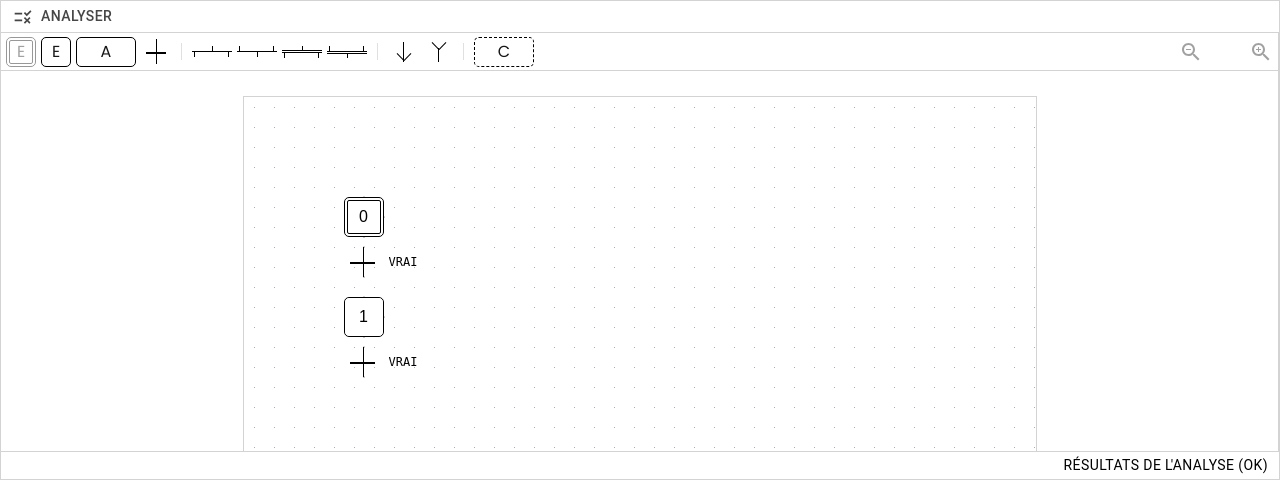
EmbeddedApp › controls › offers the analysis status, which opens the panel
This screenshot has width=1280, height=497.
Click the button "Résultats de l'analyse (OK)". click: [1166, 466]
box: top-left (1061, 452), bottom-right (1271, 479)
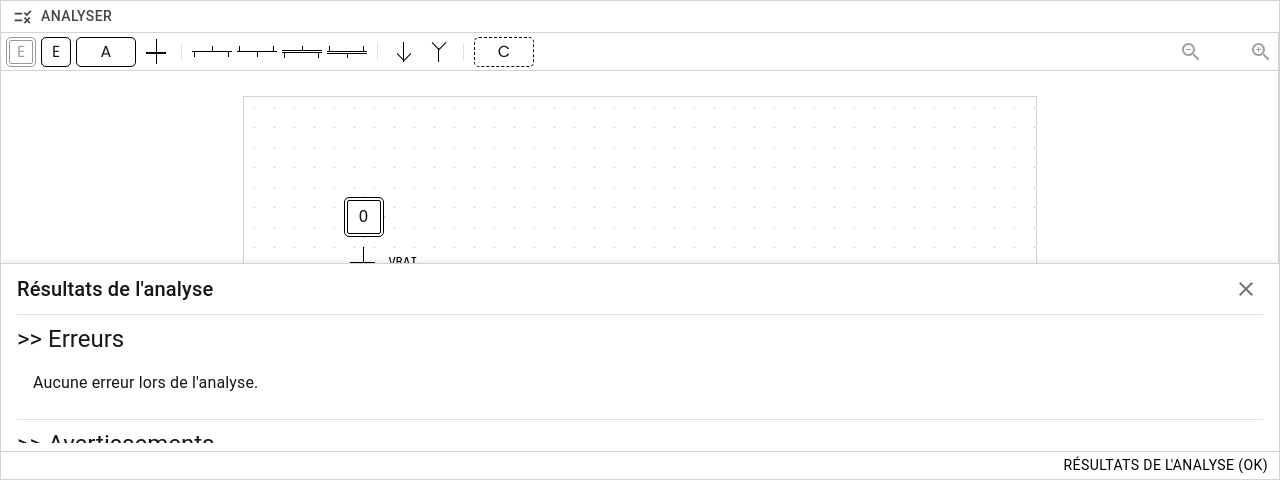
Check: the button named "close-analysis-errors" is shown, box top-left (1229, 272), bottom-right (1263, 306)
